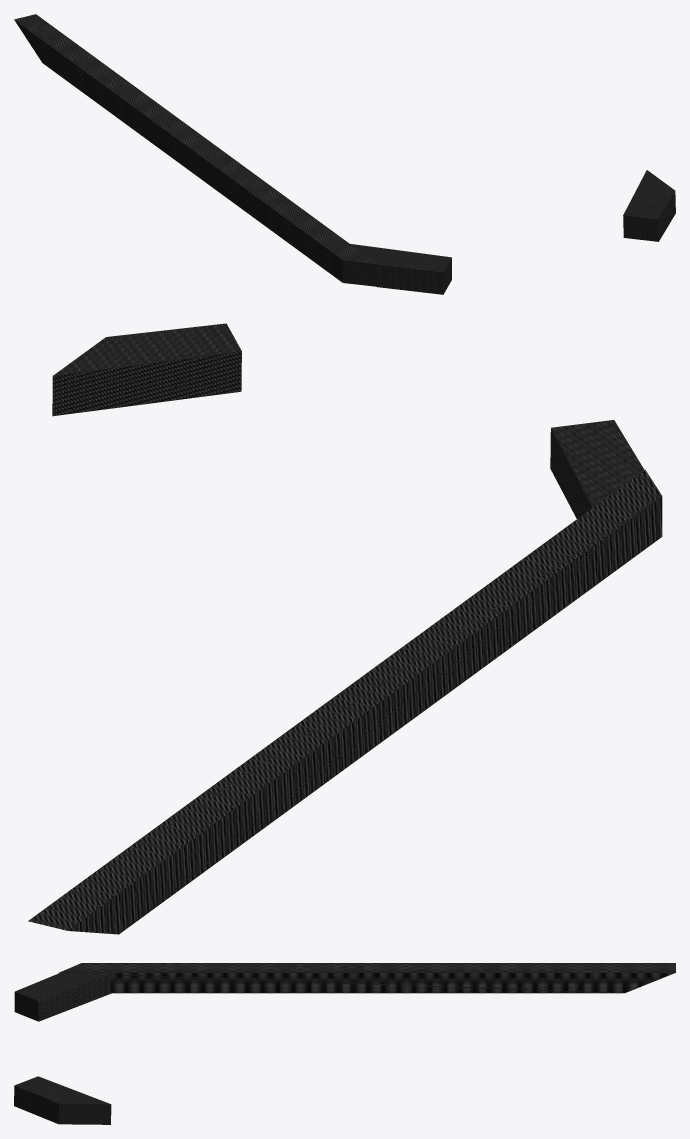
The model's file is Blockers.obj.
The picture shows the model from 3 angles, top to bottom: view 1: azimuth 30°, elevation 25°; view 2: azimuth 150°, elevation 25°; view 3: azimuth 270°, elevation 25°; orthographic projection. The views are drawn at different scales.
Visible parts, largest first — view 1: Blockers; view 2: Blockers; view 3: Blockers.
Part boxes in pixels (bbox=[...]): Blockers: bbox=[14, 14, 675, 294]; Blockers: bbox=[28, 323, 662, 934]; Blockers: bbox=[14, 963, 675, 1124].
Size of the model in its own units: 134 by 9.5 by 264.
Materials: 1 (1 with a texture image).
